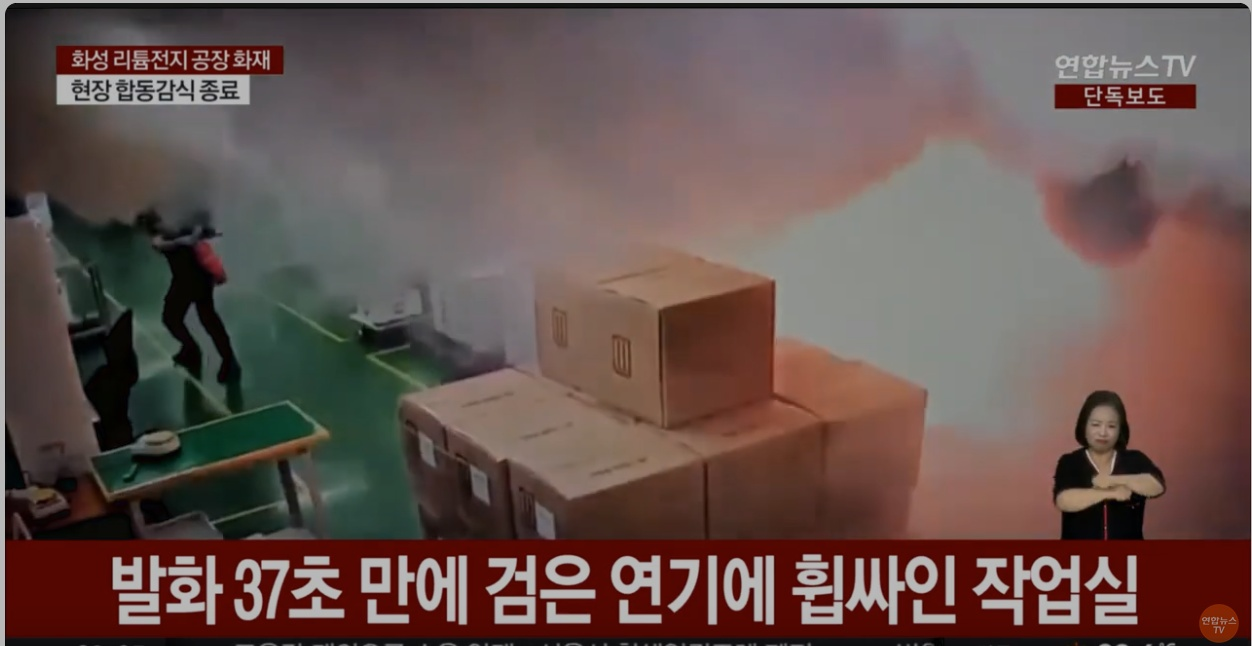smoke: (398, 108, 1211, 275)
